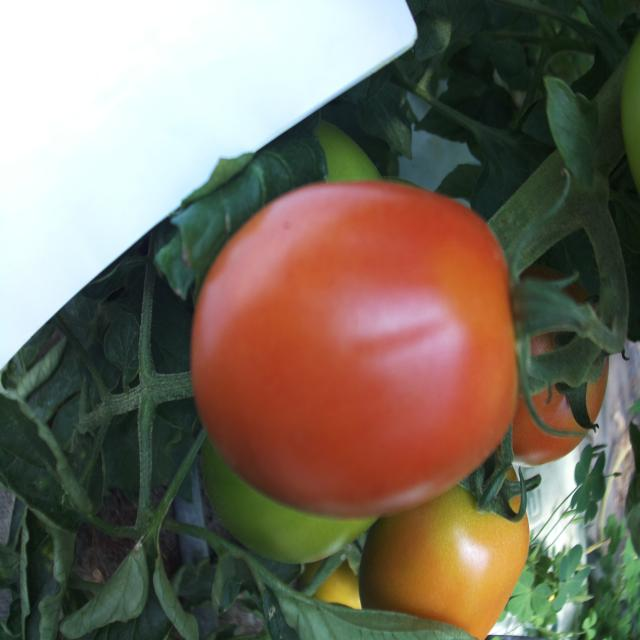kirmizi: (170, 166, 544, 488)
